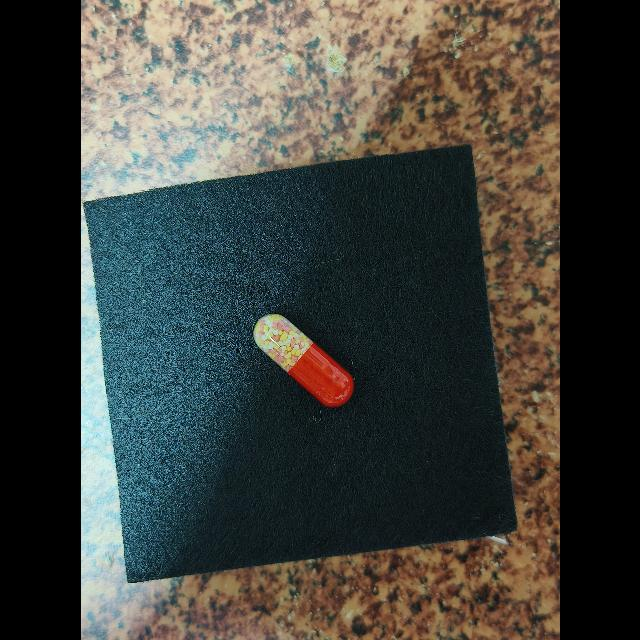Intact Capsule: (253, 314, 354, 407)
